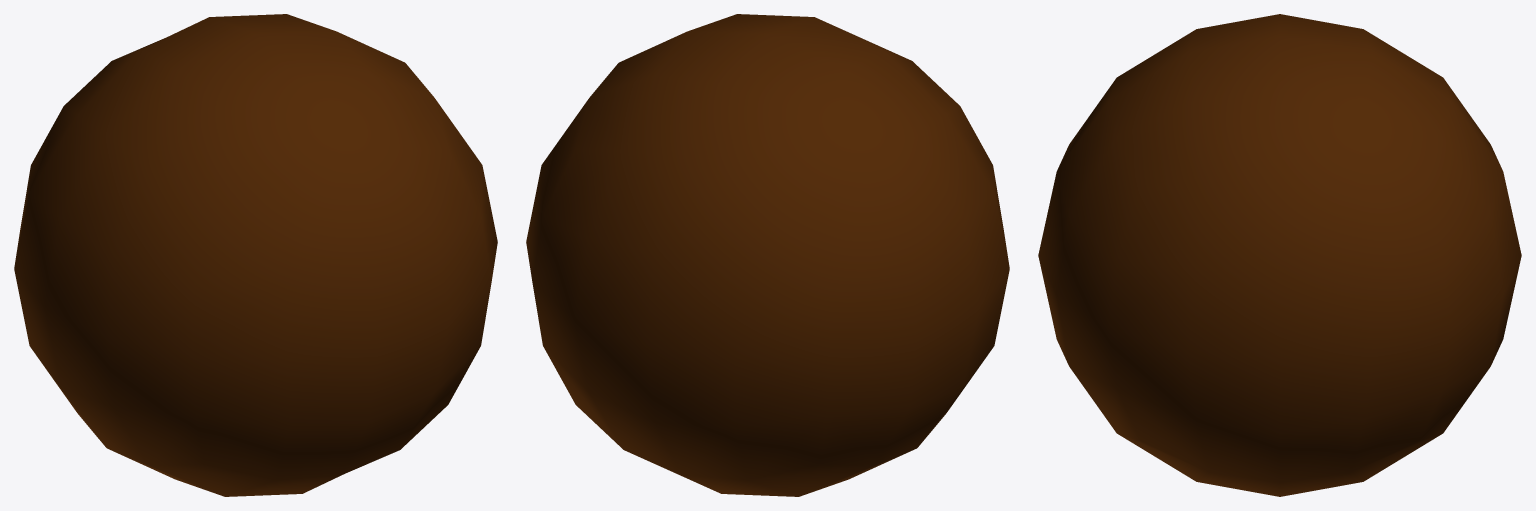
The model's file is meatballToThrow_HWG.fbx.
3 renders of one model, left to right at view 1: azimuth 30°, elevation 25°; view 2: azimuth 150°, elevation 25°; view 3: azimuth 270°, elevation 25°, orthographic.
Visible parts, largest first — view 1: meatballprojectile; view 2: meatballprojectile; view 3: meatballprojectile.
Part boxes in pixels (x1,y1,x2,y2): meatballprojectile: [14, 14, 497, 496]; meatballprojectile: [526, 14, 1009, 496]; meatballprojectile: [1038, 14, 1521, 496].
Bounding box in the file's own units: 2.72 × 2.72 × 2.72.
